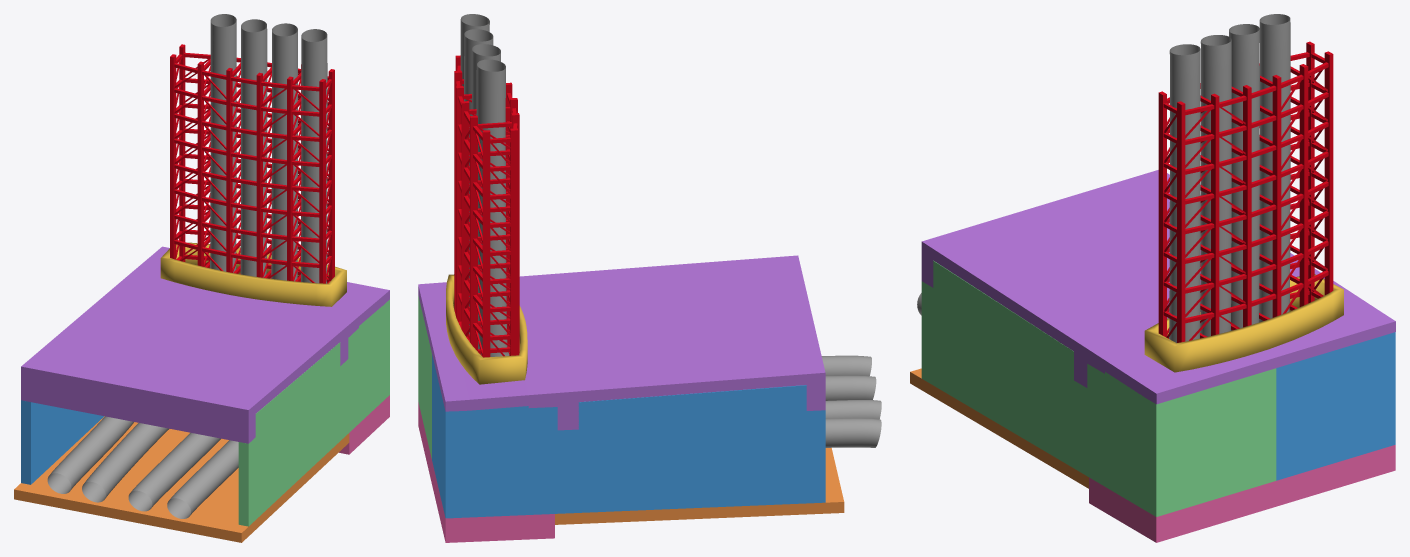
File: Cliff.glb
The picture shows the model from 3 angles, left to right: view 1: azimuth 30°, elevation 25°; view 2: azimuth 150°, elevation 25°; view 3: azimuth 270°, elevation 25°; orthographic projection. The views are drawn at different scales.
Parts seen in each view (by area): view 1: Plane.002, Plane.001, Plane.010, Cube, Cube.002, BézierCurve.002, BézierCurve.003, BézierCurve.001, BézierCurve, Plane.003, Cube.016, Plane (+1 smaller); view 2: Plane.002, Plane, Plane.010, BézierCurve.003, Cube, Cube.002, Cube.001, Plane.003, BézierCurve.001, BézierCurve.002, Cube.016, BézierCurve (+1 smaller); view 3: Plane.001, Plane.002, Plane.010, Plane, Cube.002, Cube.001, Plane.003, BézierCurve, BézierCurve.003, BézierCurve.001, BézierCurve.002, Cube.016 (+1 smaller).
Boxes of the visible parts, x1,y1,x2,y2 form: Plane.002: (21,246,389,443); Plane.001: (238,299,389,526); Plane.010: (170,44,334,283); Cube: (14,416,349,542); Cube.002: (174,52,331,283); BézierCurve.002: (82,19,267,502); BézierCurve.003: (47,14,236,493); BézierCurve.001: (128,23,297,511); BézierCurve: (167,29,327,518); Plane.003: (160,242,346,306); Cube.016: (174,59,330,282); Plane: (21,400,103,484); Plane.002: (418,255,825,430); Plane: (432,354,825,518); Plane.010: (454,55,519,357); BézierCurve.003: (476,59,881,447); Cube: (555,448,844,524); Cube.002: (456,65,517,355); Cube.001: (418,402,554,542); Plane.003: (446,274,527,384); BézierCurve.001: (464,29,876,400); BézierCurve.002: (472,44,881,419); Cube.016: (463,84,510,356); BézierCurve: (460,14,871,376); Plane.001: (921,260,1276,516); Plane.002: (921,170,1395,404); Plane.010: (1158,41,1333,342); Plane: (1276,332,1395,480); Cube.002: (1163,52,1328,338); Cube.001: (1089,445,1395,542); Plane.003: (1144,274,1343,372); BézierCurve: (917,44,1200,342); BézierCurve.003: (1259,14,1290,322); BézierCurve.001: (1200,35,1231,336); BézierCurve.002: (1229,24,1259,330); Cube.016: (1164,70,1327,340).
Bounding box in the file's own units: 18.06 × 17.71 × 17.02.
